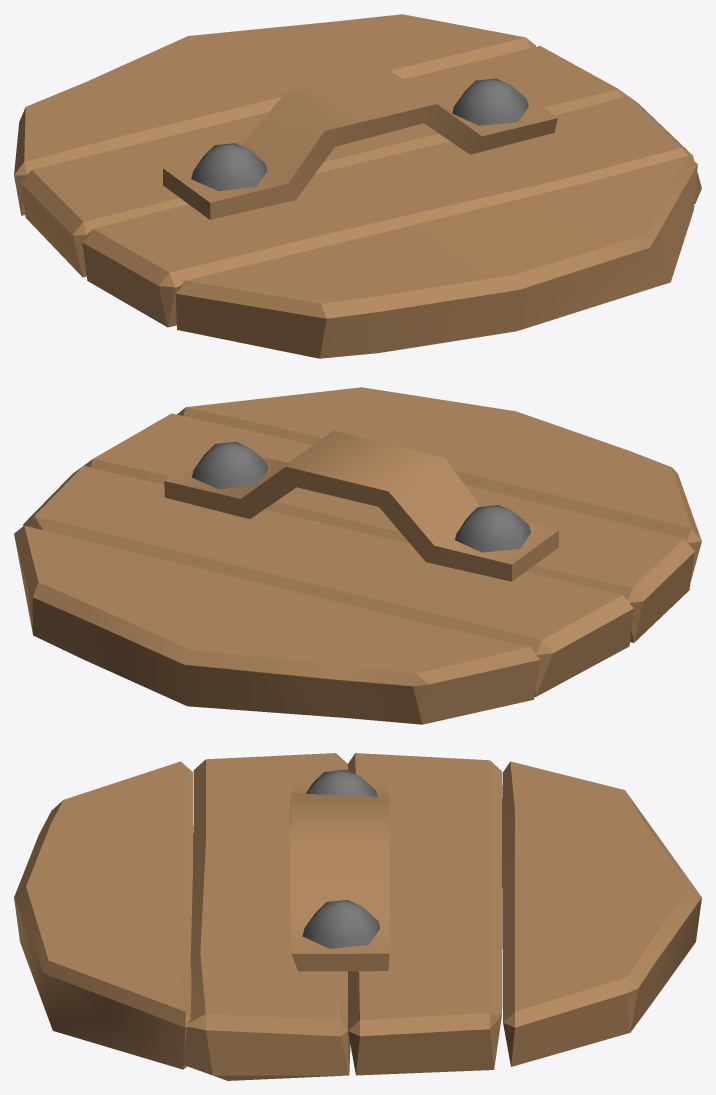
The model's file is Barrel_Prop_A.fbx.
3 views of the same model, one above another, from view 1: azimuth 30°, elevation 25°; view 2: azimuth 150°, elevation 25°; view 3: azimuth 270°, elevation 25° (orthographic).
Parts seen in each view (by area): view 1: Barrel_Prop_A; view 2: Barrel_Prop_A; view 3: Barrel_Prop_A.
Boxes of the visible parts, x1=… form: Barrel_Prop_A: x1=14, y1=14, x2=701, y2=358; Barrel_Prop_A: x1=14, y1=387, x2=701, y2=724; Barrel_Prop_A: x1=14, y1=753, x2=701, y2=1080.
Size of the model in its own units: 51.46 by 10.78 by 53.84.
